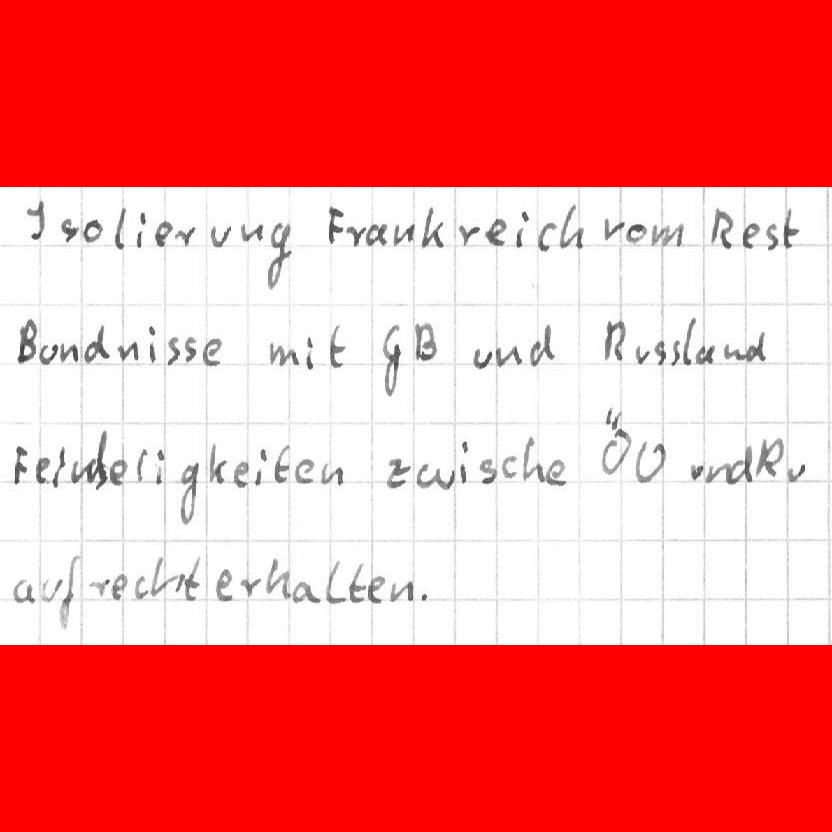Char: (599, 411, 630, 476), (265, 219, 292, 289), (58, 560, 82, 630), (381, 323, 402, 399), (633, 439, 666, 483), (706, 204, 736, 251), (176, 461, 198, 525), (151, 556, 183, 599), (419, 204, 447, 252), (559, 203, 585, 253), (414, 461, 455, 491), (757, 433, 782, 480), (528, 322, 554, 366), (601, 317, 626, 362), (89, 431, 109, 487), (15, 318, 37, 366), (23, 197, 46, 242), (414, 320, 438, 363), (728, 442, 753, 482), (326, 320, 347, 367), (84, 324, 109, 363), (521, 435, 542, 481), (265, 556, 288, 598), (325, 557, 345, 605), (208, 441, 229, 485), (651, 220, 683, 248), (269, 340, 298, 370), (744, 328, 767, 364), (184, 555, 202, 601), (291, 580, 321, 606), (781, 207, 799, 250), (385, 457, 409, 489), (214, 567, 236, 601), (272, 445, 291, 484), (325, 204, 343, 245), (112, 205, 128, 251), (514, 207, 531, 250), (485, 217, 509, 247), (11, 444, 28, 486), (52, 442, 67, 489), (202, 334, 224, 366), (365, 220, 390, 247), (11, 579, 35, 607), (545, 457, 568, 486), (349, 563, 366, 602), (535, 221, 556, 252), (319, 460, 344, 486), (39, 576, 63, 603), (456, 222, 481, 247), (209, 223, 233, 248), (366, 574, 386, 604), (389, 577, 413, 602), (81, 218, 104, 244), (114, 339, 137, 365), (704, 461, 730, 484), (392, 219, 414, 246), (682, 318, 695, 363), (174, 223, 198, 247), (240, 220, 265, 243), (477, 456, 497, 484), (145, 324, 159, 364), (624, 221, 647, 245), (239, 575, 263, 598), (498, 344, 522, 367), (602, 217, 624, 242), (344, 222, 365, 248), (134, 446, 148, 485), (110, 456, 128, 486), (740, 222, 760, 249), (459, 439, 471, 484), (472, 345, 494, 369), (111, 569, 128, 600), (254, 449, 268, 486), (59, 217, 78, 244), (232, 461, 251, 488), (152, 220, 171, 247), (164, 336, 181, 366), (89, 576, 111, 599), (294, 459, 315, 483), (787, 459, 807, 484), (35, 455, 51, 486), (132, 575, 151, 600), (39, 340, 58, 365), (59, 341, 79, 364), (763, 223, 780, 250), (501, 455, 519, 480), (136, 211, 148, 248), (304, 336, 317, 370), (70, 459, 87, 485), (687, 459, 706, 482), (154, 448, 166, 484), (696, 344, 716, 365), (183, 336, 198, 364), (634, 343, 652, 365), (724, 343, 741, 362), (668, 342, 681, 364), (654, 341, 666, 364), (418, 587, 432, 604)
